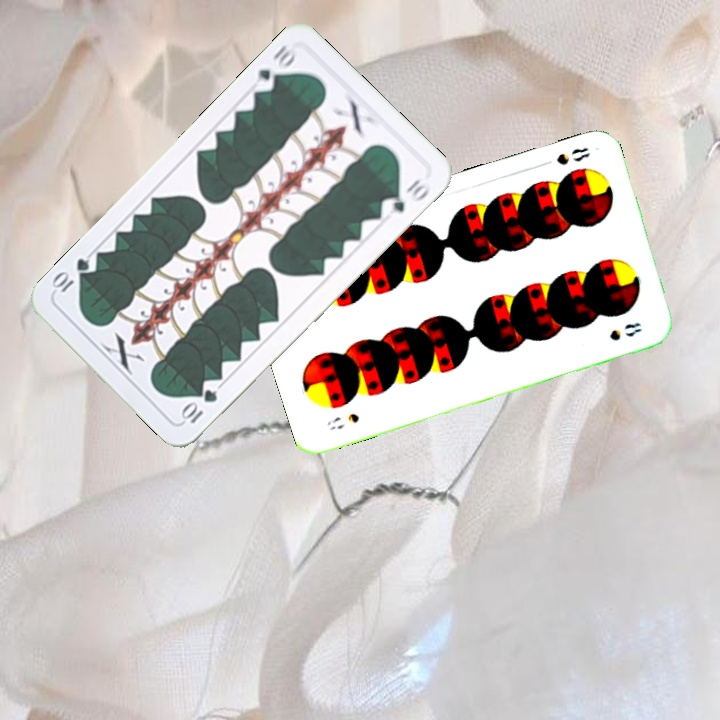G10: (249, 41, 300, 95), (177, 385, 220, 427)
S8: (552, 143, 593, 168), (322, 409, 362, 432)
